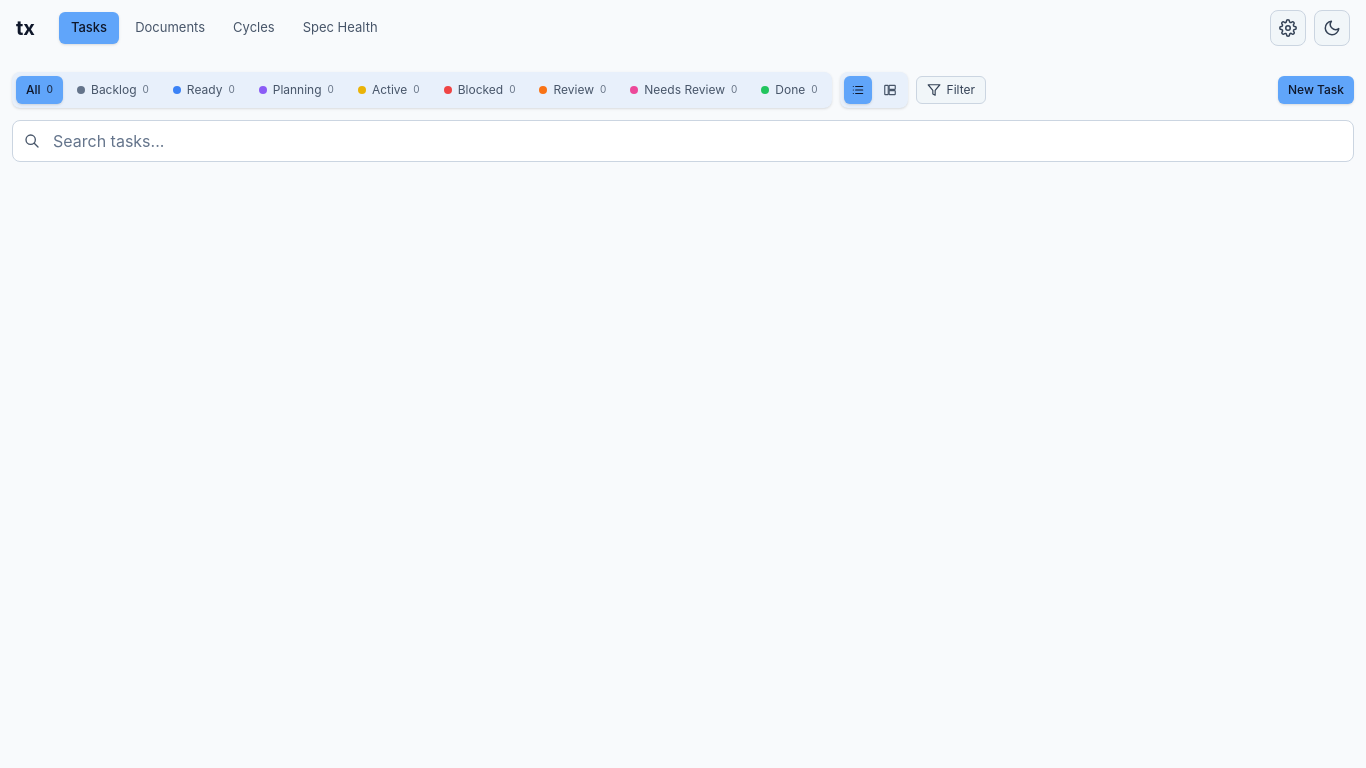
Test case: Keyboard shortcuts › CMD+K behavior › opens command palette in task detail with CMD+Shift+K fallback
Click the button "Tasks" at (89, 28), box top-left (59, 12), bottom-right (119, 44)
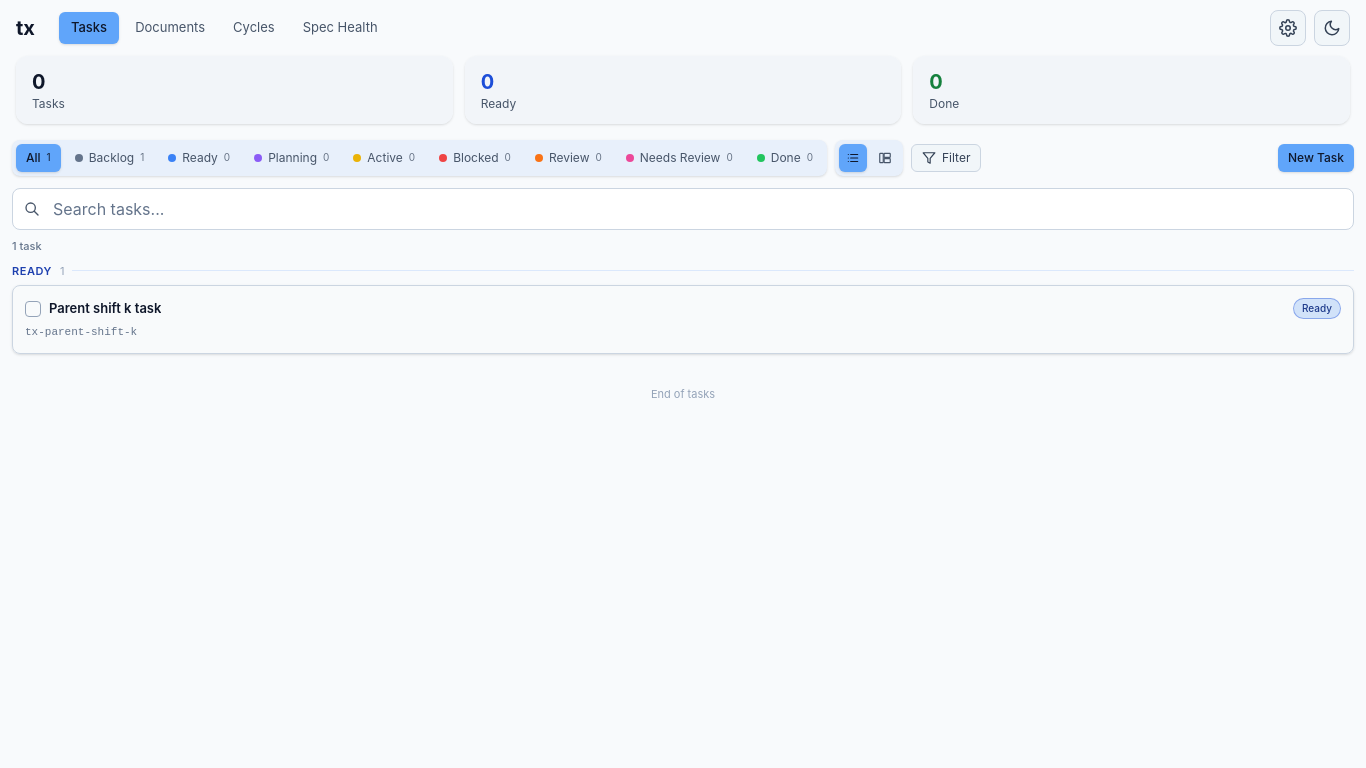
Check: the heading "Parent shift k task" is shown
Click the heading "Parent shift k task" at (105, 309), box top-left (49, 299), bottom-right (161, 318)
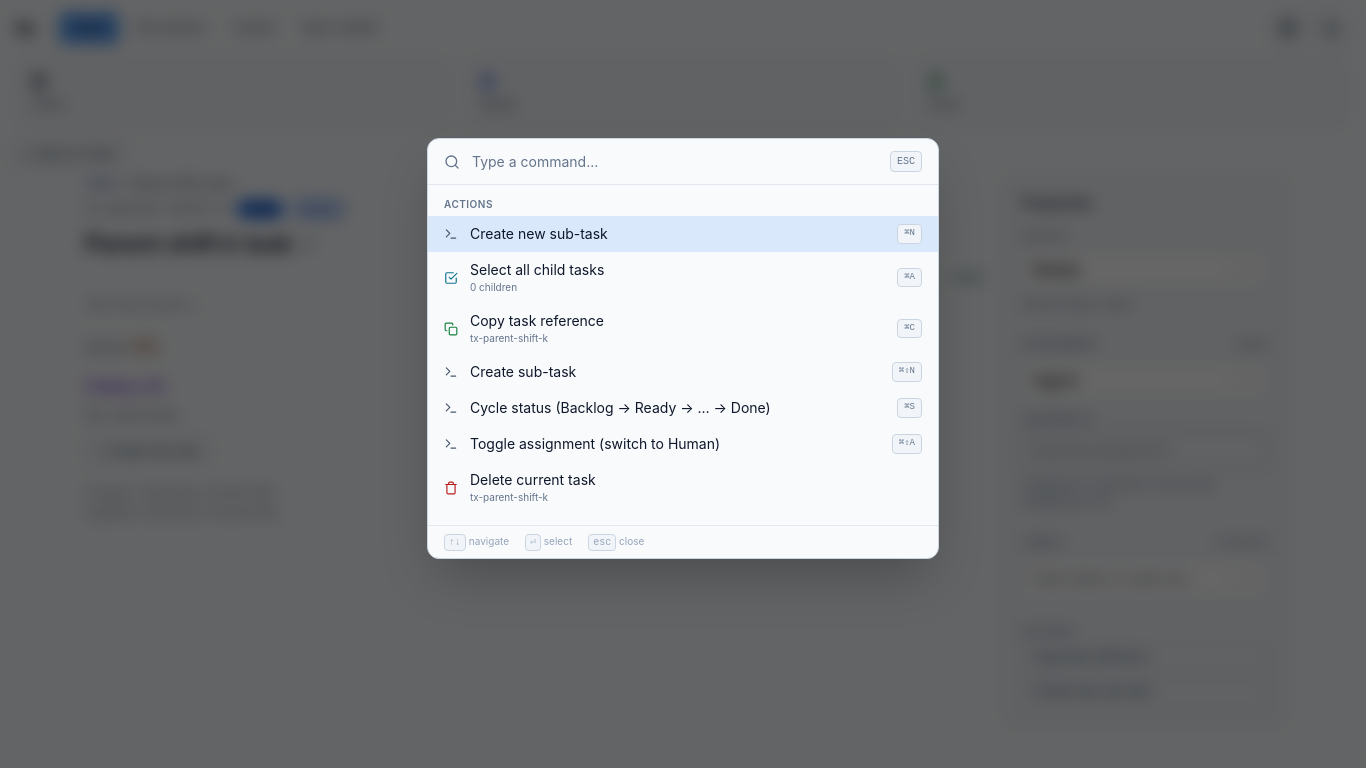
Check: the field with placeholder "Type a command..." is shown, box top-left (472, 152), bottom-right (878, 172)
